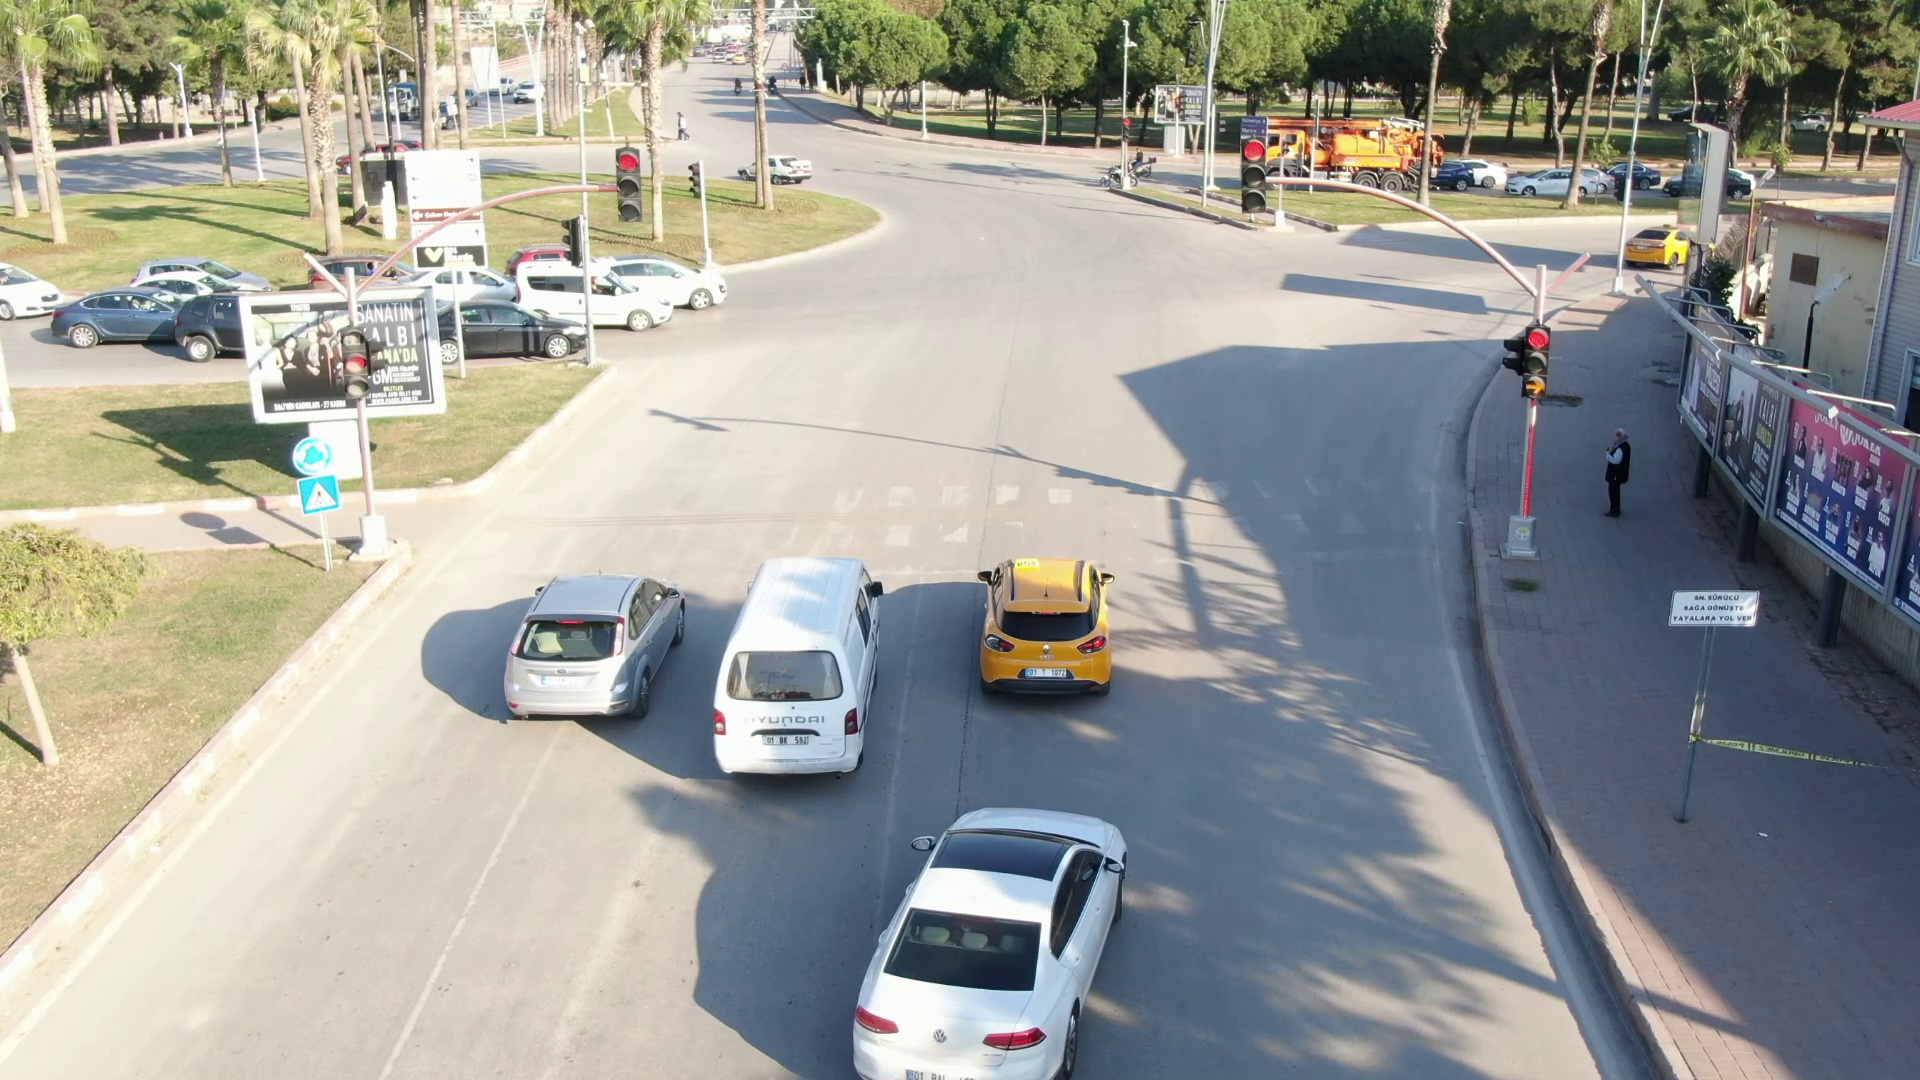car: (815, 796, 1155, 1080), (704, 553, 906, 788), (490, 559, 694, 735), (974, 547, 1115, 706), (510, 251, 680, 331), (423, 306, 615, 363), (604, 251, 739, 315), (1617, 227, 1698, 280), (729, 145, 833, 182)
person: (1602, 425, 1637, 523)
